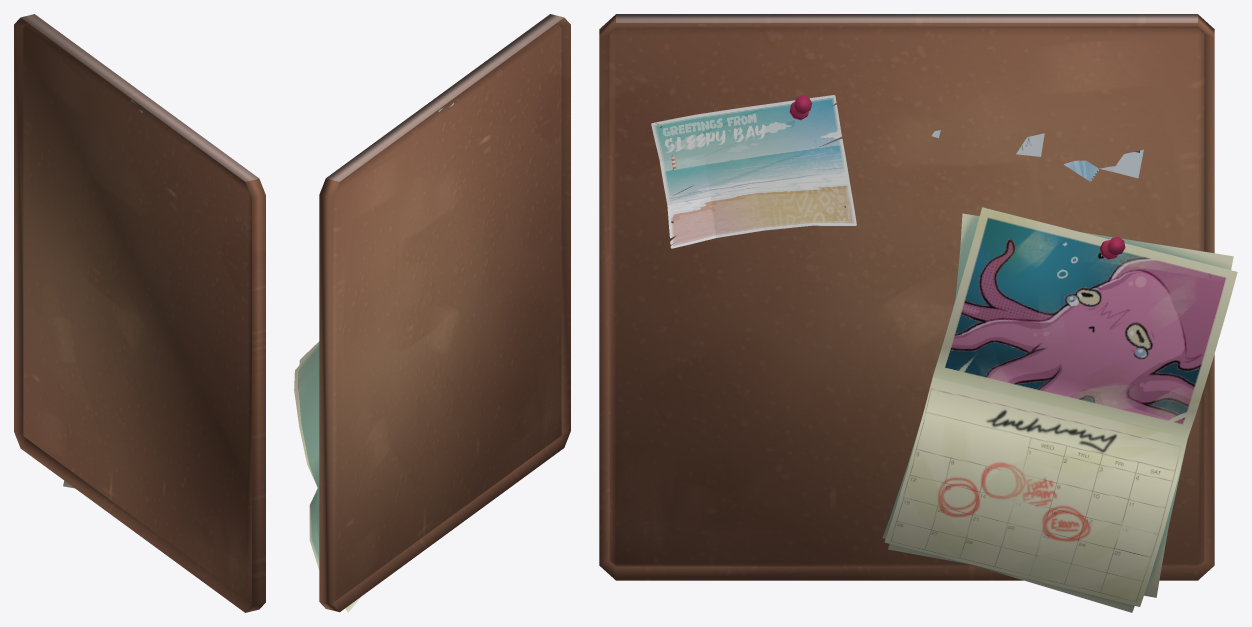
The model's file is Cork.fbx.
The picture shows the model from 3 angles, left to right: view 1: azimuth 30°, elevation 25°; view 2: azimuth 150°, elevation 25°; view 3: azimuth 270°, elevation 25°; orthographic projection. The views are drawn at different scales.
Visible parts, largest first — view 1: Cork; view 2: Cork; view 3: Cork.
Part boxes in pixels (x1,y1,x2,y2): Cork: (14,14,265,612); Cork: (294,14,570,612); Cork: (599,14,1237,612).
Size of the model in its own units: 17.69 by 152 by 149.
